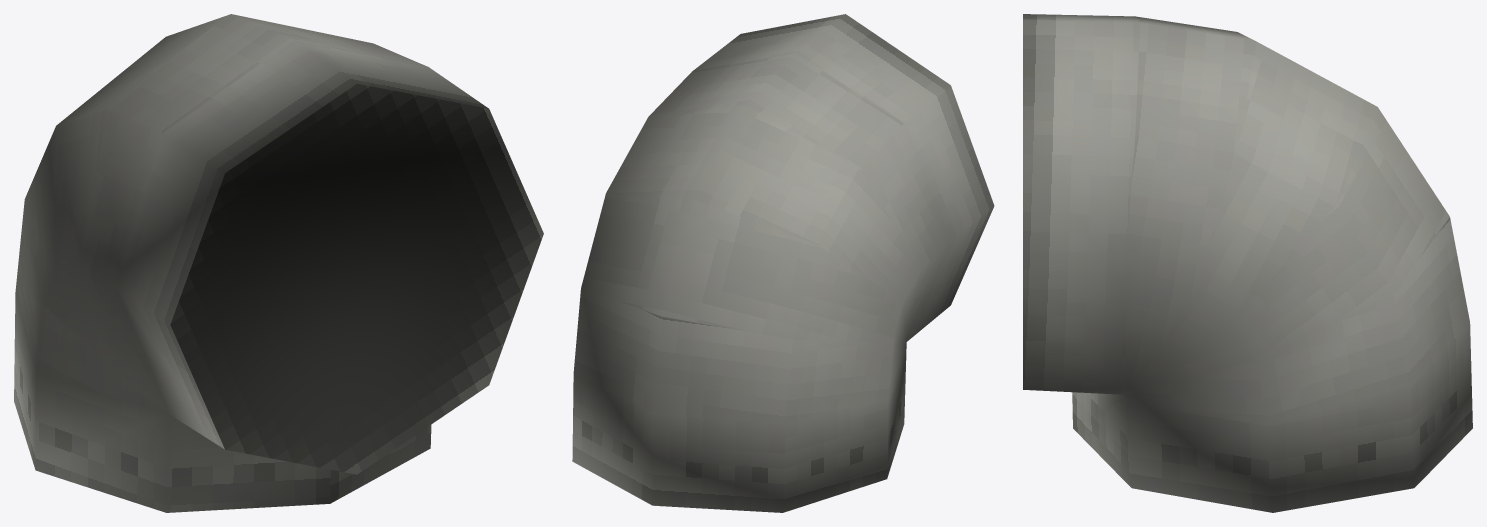
File: CornerPipe1.glb
3 renders of one model, left to right at view 1: azimuth 30°, elevation 25°; view 2: azimuth 150°, elevation 25°; view 3: azimuth 270°, elevation 25°, orthographic. The views are drawn at different scales.
Parts seen in each view (by area): view 1: Cylinder.017; view 2: Cylinder.017; view 3: Cylinder.017.
Part boxes in pixels (x1=…): Cylinder.017: x1=14, y1=14, x2=543, y2=512; Cylinder.017: x1=572, y1=14, x2=994, y2=512; Cylinder.017: x1=1023, y1=14, x2=1472, y2=512.
Size of the model in its own units: 3.2 by 3.6 by 3.6.
1 material, 1 textured.
